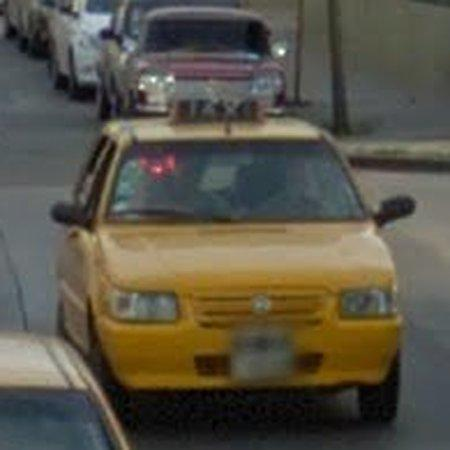taxis: (49, 100, 412, 418)
